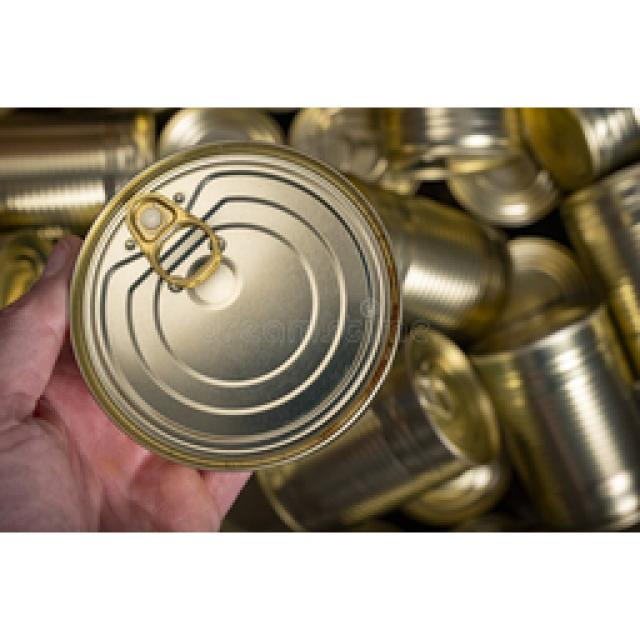alumunium: (0, 108, 638, 528)
